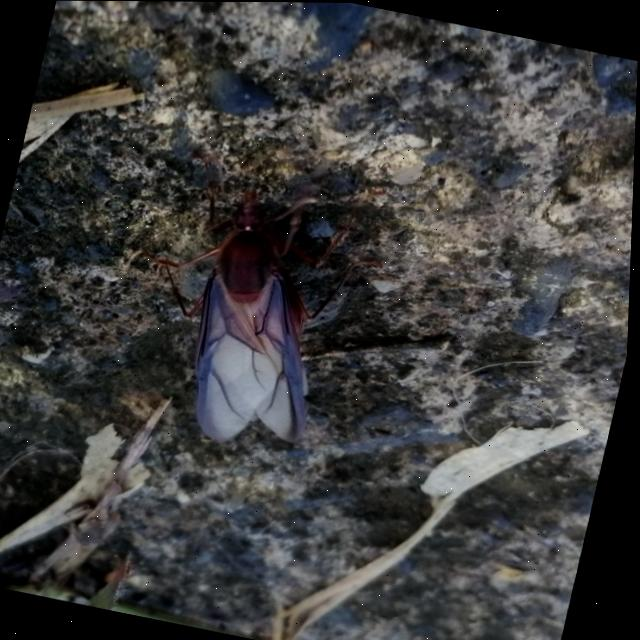Alive-Male-Alate: (102, 142, 405, 467)
